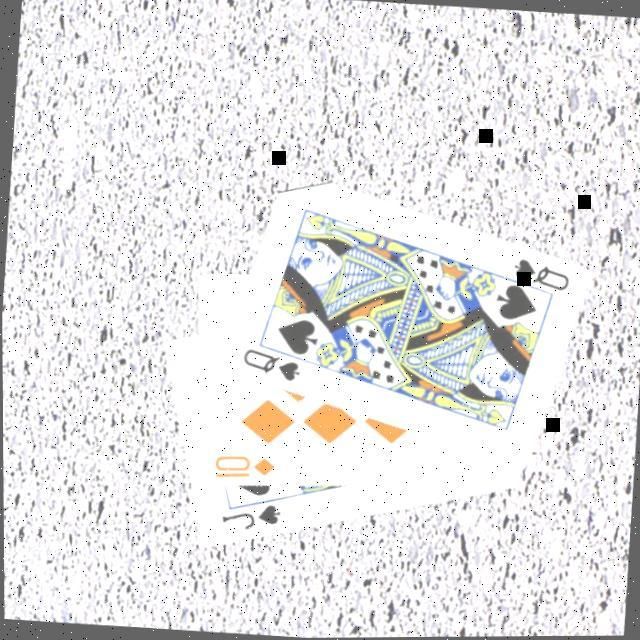10D: (208, 451, 276, 486)
JS: (214, 499, 282, 538)
QS: (236, 345, 302, 387), (506, 255, 572, 297)
